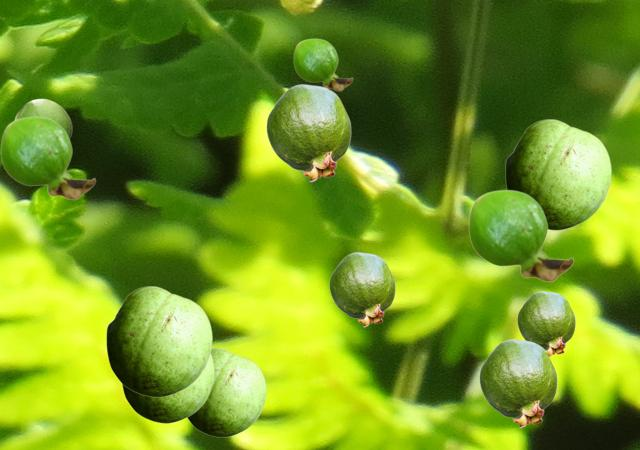guava: (505, 119, 610, 229), (106, 286, 211, 396), (468, 189, 573, 281), (266, 84, 350, 181), (0, 116, 95, 199), (187, 348, 265, 436), (479, 339, 556, 427), (121, 353, 213, 422), (329, 252, 394, 326), (517, 291, 574, 356), (293, 38, 352, 90), (14, 98, 71, 137)
